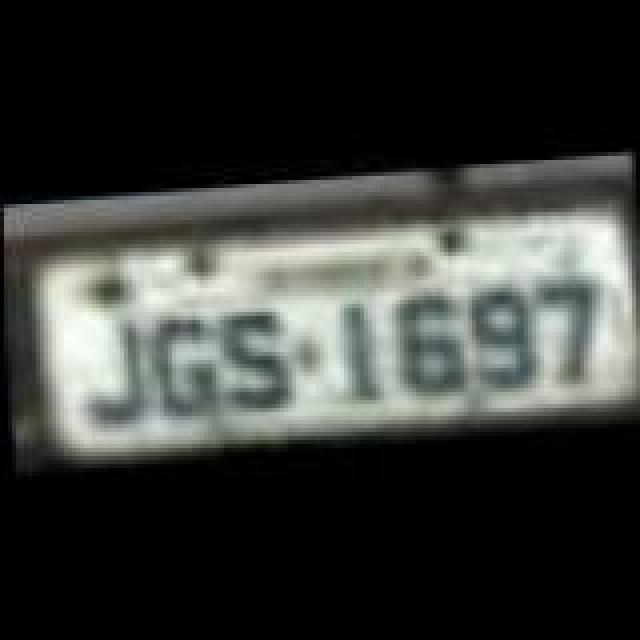1: (330, 296, 382, 408)
6: (388, 290, 468, 398)
7: (524, 278, 604, 398)
9: (470, 284, 538, 392)
G: (144, 310, 224, 422)
J: (76, 314, 148, 426)
S: (216, 306, 288, 418)
